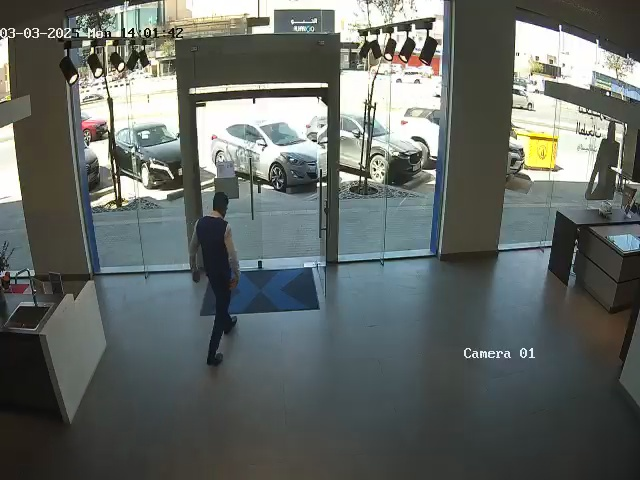employee: (188, 191, 240, 366)
